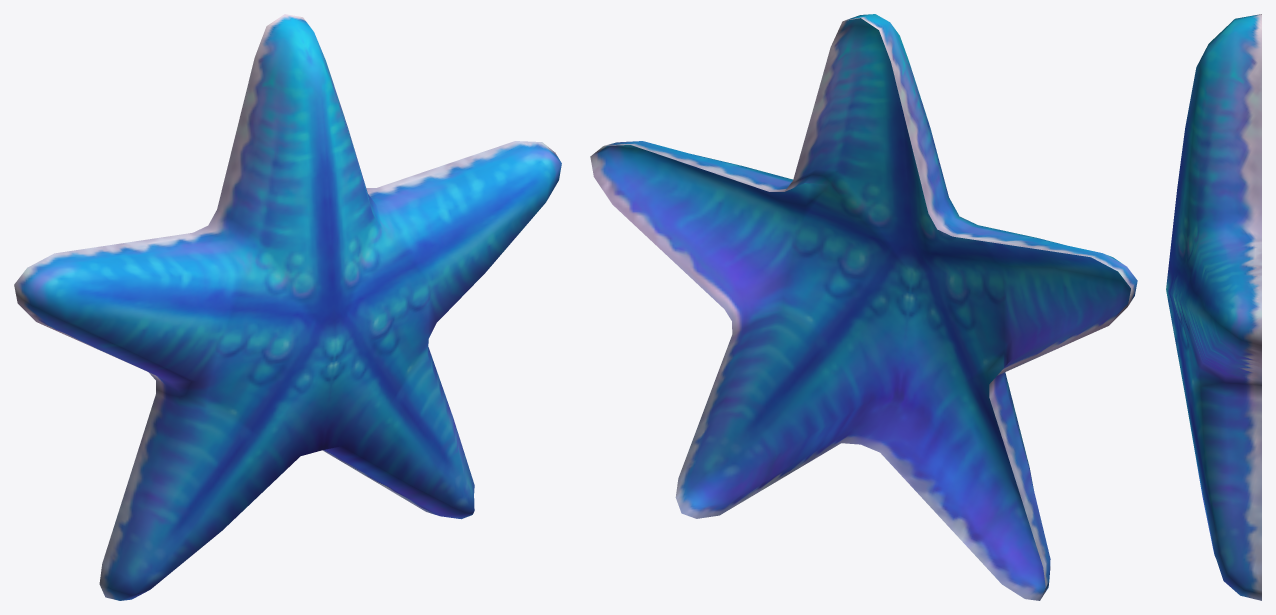
File: haixing02_02.FBX
3 views of the same model, side by side, from view 1: azimuth 30°, elevation 25°; view 2: azimuth 150°, elevation 25°; view 3: azimuth 270°, elevation 25° (orthographic). The views are drawn at different scales.
Parts seen in each view (by area): view 1: haixing02_02; view 2: haixing02_02; view 3: haixing02_02.
Boxes of the visible parts, x1,y1,x2,y2 form: haixing02_02: (14,14,561,600); haixing02_02: (590,14,1137,600); haixing02_02: (1166,14,1261,600).
Bounding box in the file's own units: 204 × 195 × 33.55.
